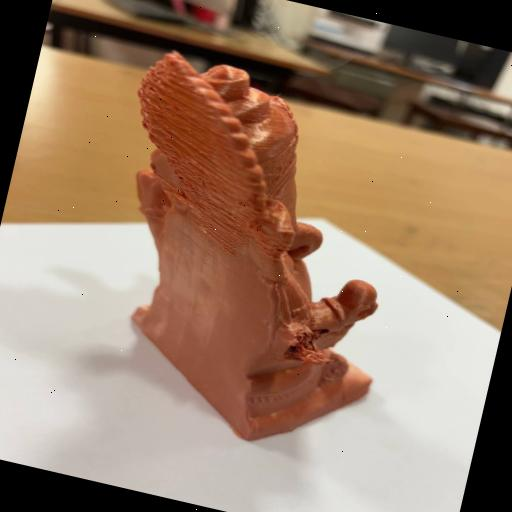cracks: (280, 312, 346, 380)
